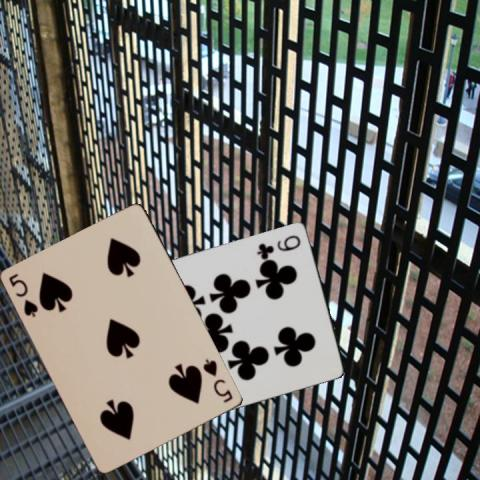5s: (200, 356, 235, 405), (6, 270, 40, 319)
9c: (254, 232, 303, 258)
